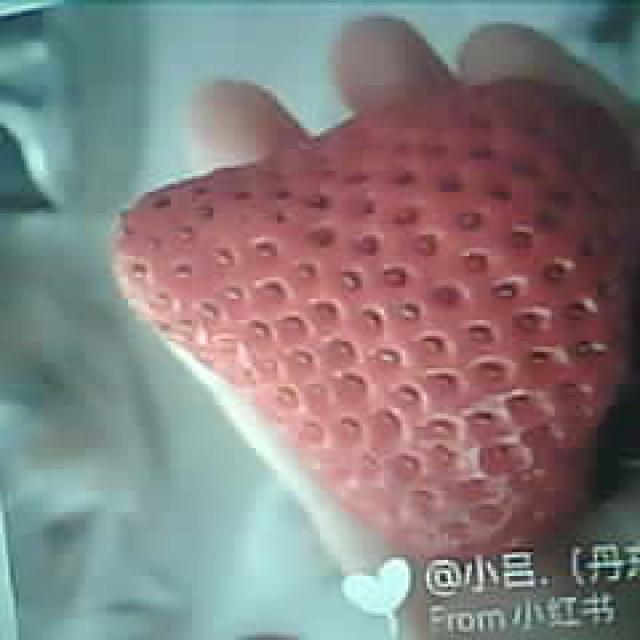ripe: (111, 85, 633, 564)
